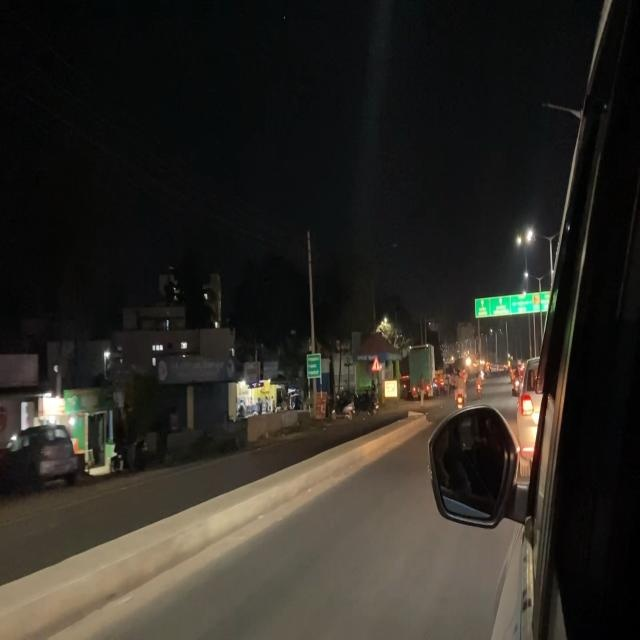bien_nguy_hiem: (371, 353, 380, 374)
